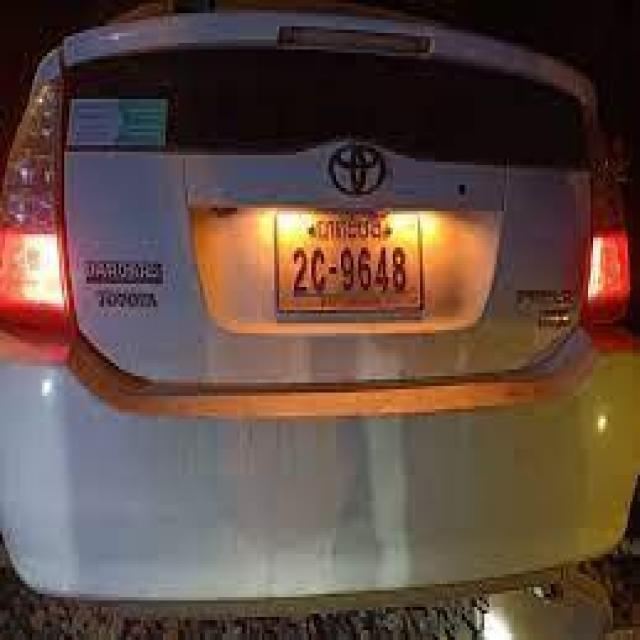Battambang: (316, 215, 392, 241)
